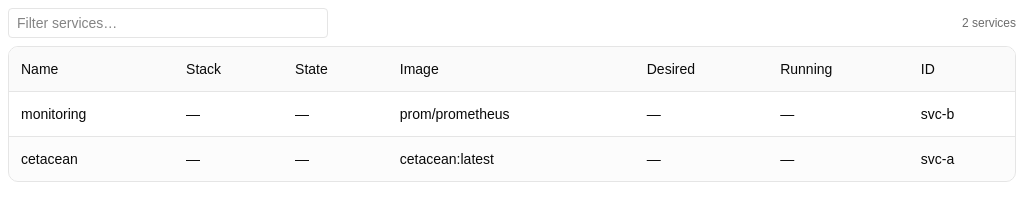
Test case: ResourceTable › filters rows by the search box
Type "ceta" into the search field at (168, 23), box [8,8,328,38]
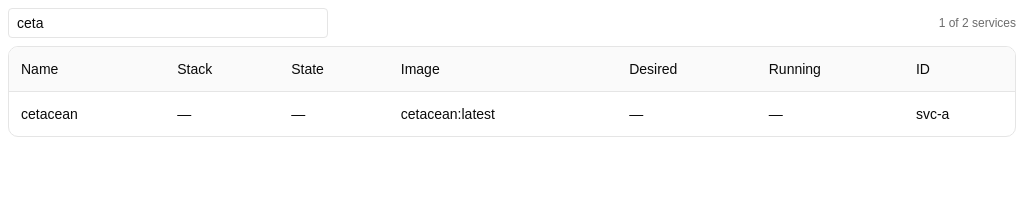
Expected: the text "cetacean" is shown, [9,92,165,136]
Result: the text "monitoring" is gone
